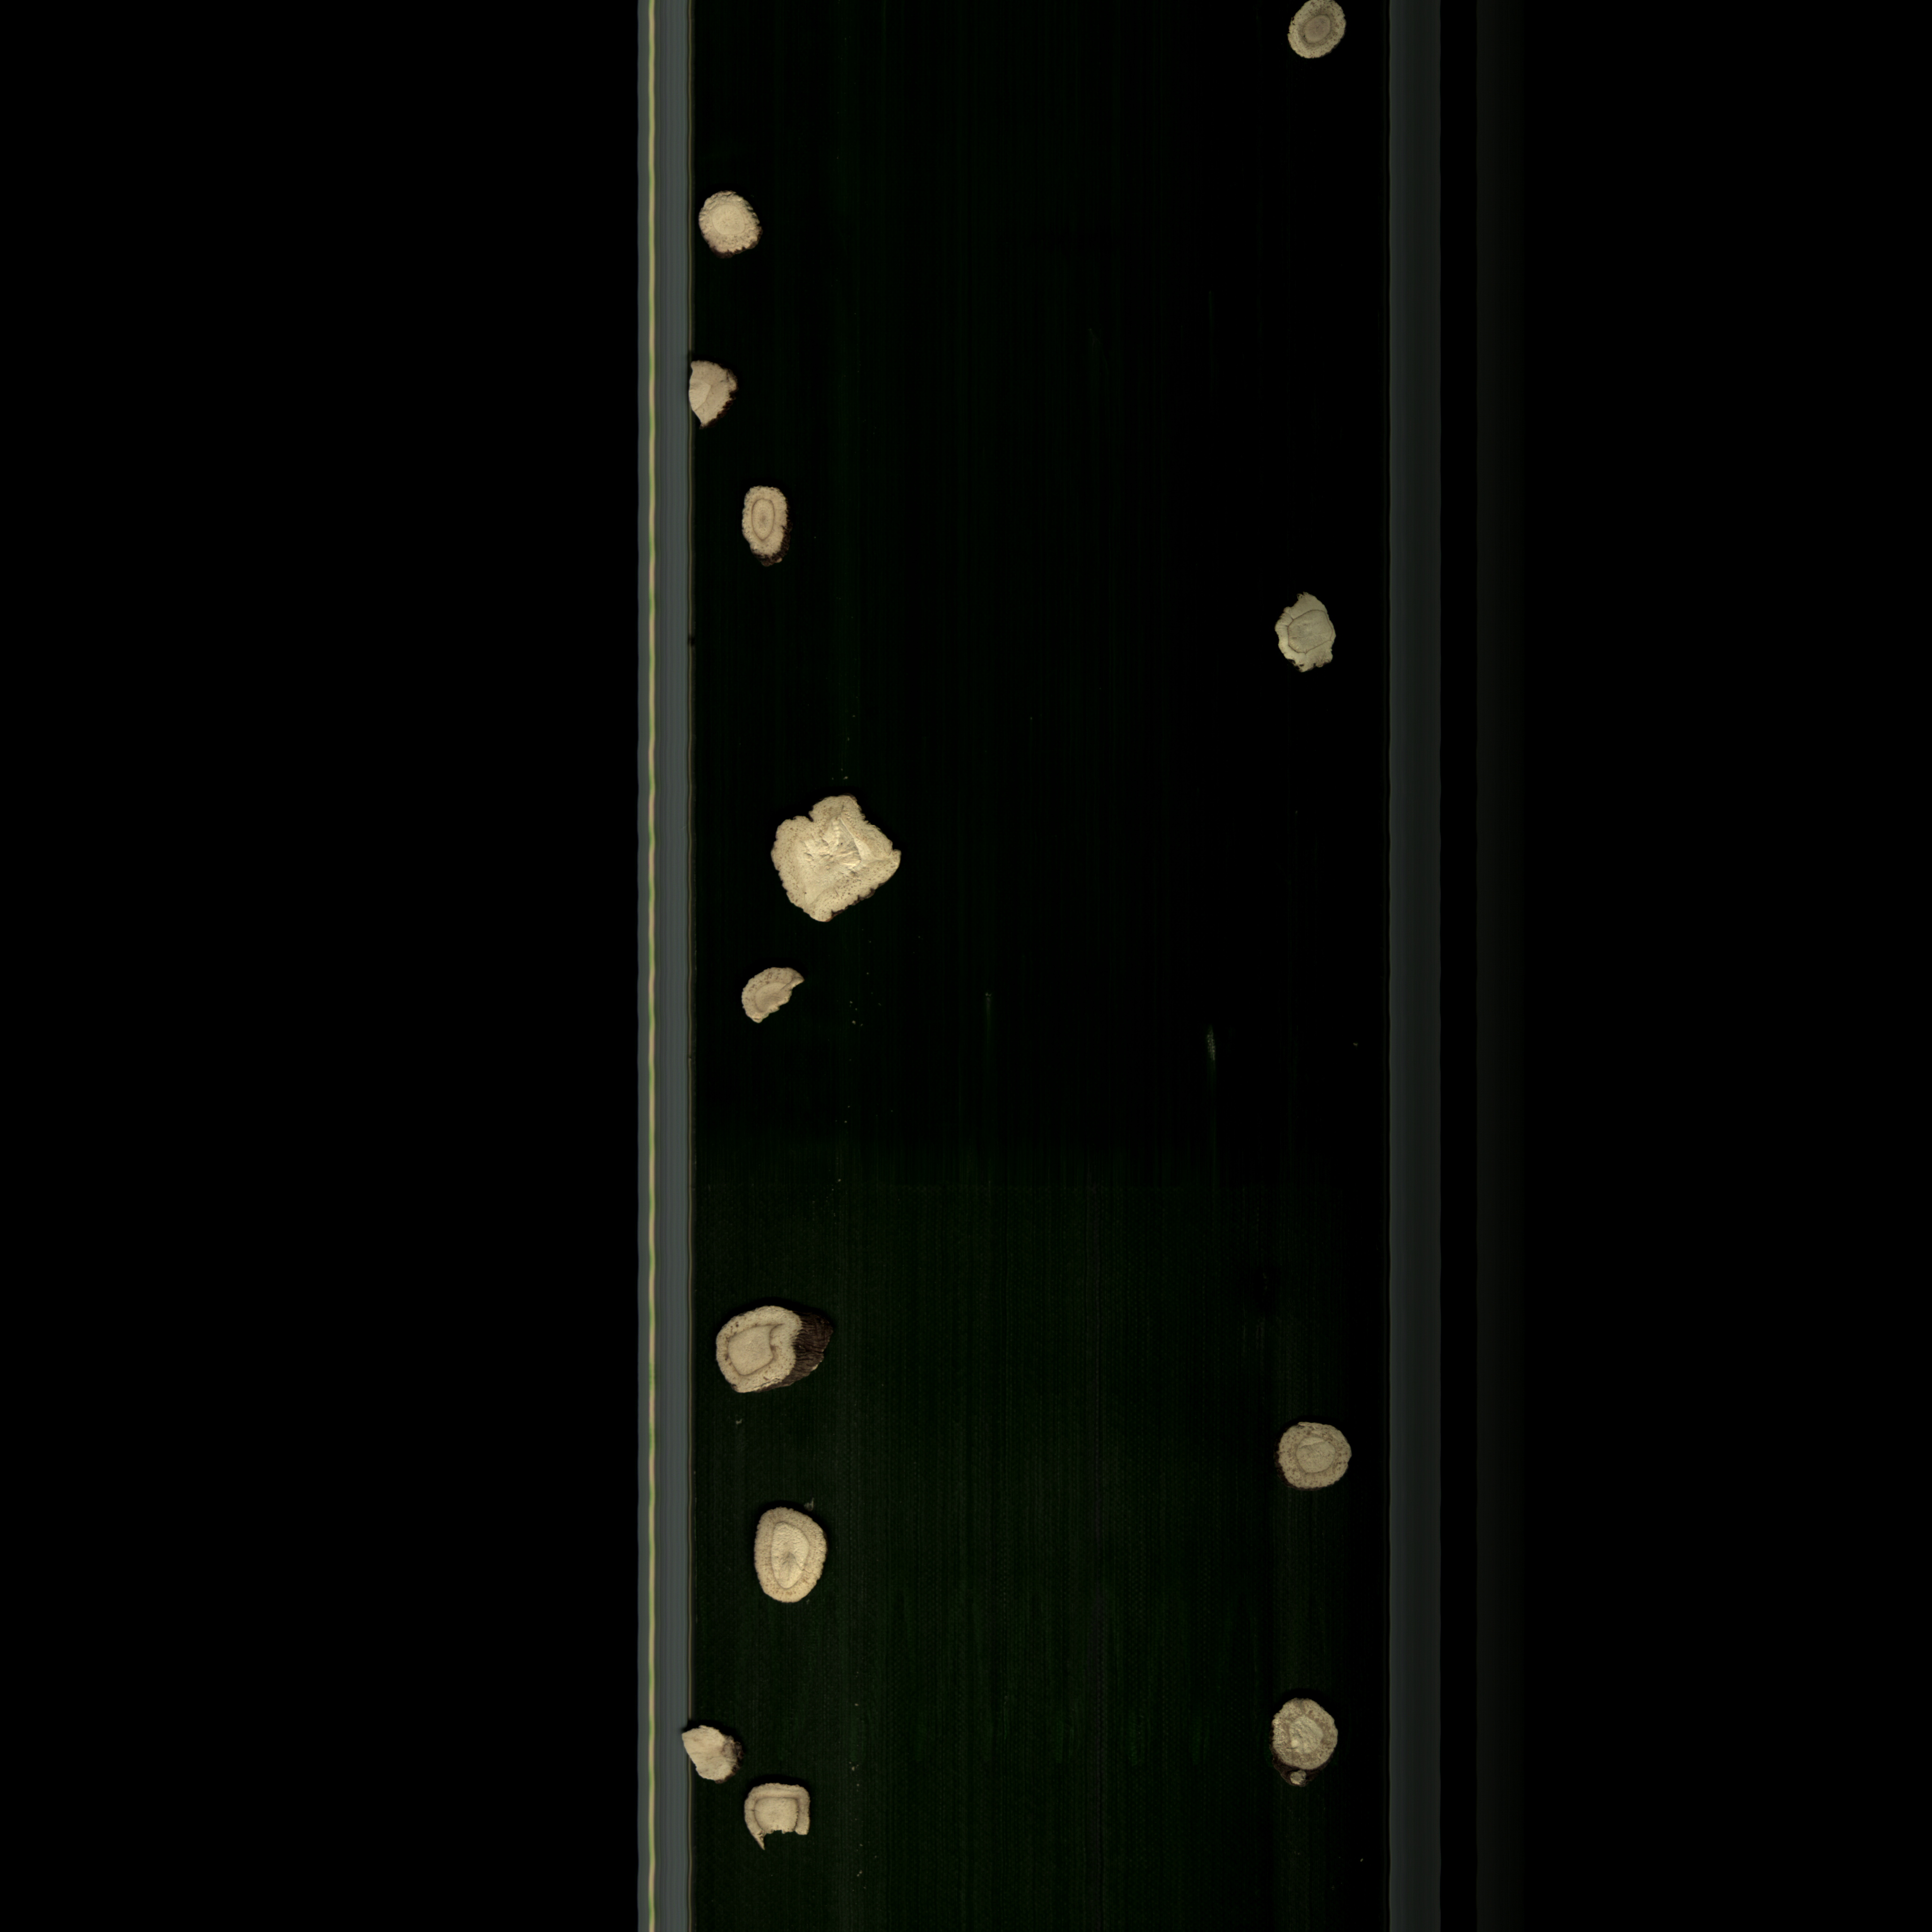bark: (694, 1304, 840, 1410)
debris: (731, 1773, 839, 1859), (1270, 587, 1352, 686), (679, 352, 754, 433), (731, 962, 812, 1024), (672, 1718, 745, 1787)
distortion: (754, 798, 918, 927)
moldy: (1270, 1414, 1368, 1504), (1258, 1697, 1346, 1794), (738, 478, 800, 579), (1288, 0, 1350, 55)
